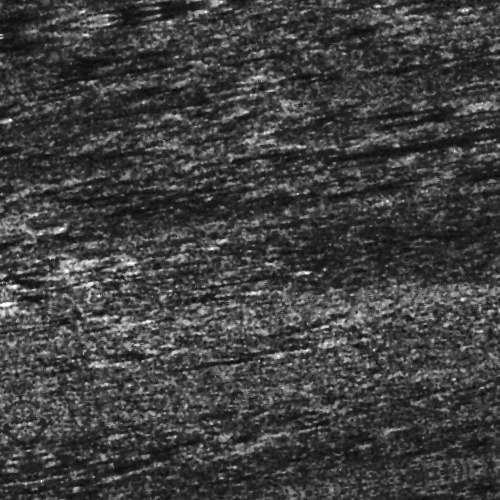object: (233, 87, 286, 104), (469, 163, 500, 176), (22, 190, 53, 201), (228, 352, 281, 357), (158, 496, 199, 500), (0, 259, 9, 264)
shadow: (100, 87, 259, 104), (391, 163, 500, 176), (139, 352, 254, 357), (0, 190, 38, 201), (120, 496, 179, 500), (455, 451, 500, 456)
